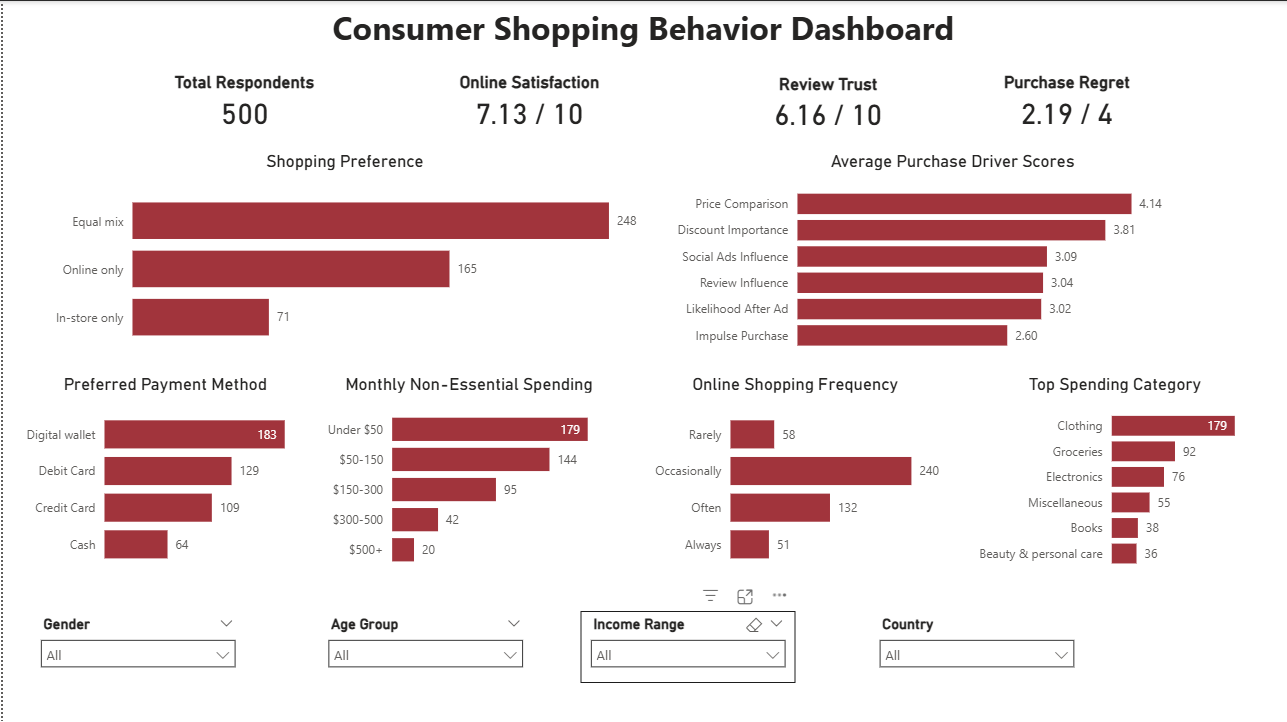

This screenshot's page, from the dashboard's own definition file:
{"tool":"powerbi","page":{"name":"Consumer Shopping Dashboard","canvas":[1280,720],"ordinal":0},"visuals":[{"type":"textbox","box":[41.2,0,1192.5,57.6],"z":0},{"type":"card","title":"Total Respondents","fields":{"Values":["_Measures.Total Respondents"]},"box":[150.9,71.4,179.8,60],"z":1000},{"type":"card","title":"Online Satisfaction","fields":{"Values":["_Measures.Online Satisfaction Display"]},"box":[433.6,71.4,179.8,60],"z":2000},{"type":"card","title":"Review Trust","fields":{"Values":["_Measures.Review Trust Display"]},"box":[731.4,72.7,179.8,60],"z":3000},{"type":"card","title":"Purchase Regret","fields":{"Values":["_Measures.Purchase Regret Display"]},"box":[968.8,71.4,179.8,60],"z":4000},{"type":"clusteredBarChart","title":"Shopping Preference","fields":{"Category":["Consumer_Survey_Cleaned.Shop_Most_Where"],"Y":["_Measures.Total Respondents"]},"box":[41.2,149.6,598.3,209.9],"z":5000},{"type":"clusteredBarChart","title":"Average Purchase Driver Scores","fields":{"Category":["Purchase_Drivers.Purchase_Driver"],"Y":["_Measures.Purchase Driver Average"]},"box":[657.3,149.6,576.3,209.9],"z":6000},{"type":"clusteredBarChart","title":"Preferred Payment Method","fields":{"Category":["Consumer_Survey_Cleaned.Preferred_Payment_Method"],"Y":["_Measures.Total Respondents"]},"box":[11,370.5,300.5,205],"z":7000},{"type":"clusteredBarChart","title":"Monthly Non-Essential Spending","fields":{"Y":["_Measures.Total Respondents"],"Category":["Consumer_Survey_Cleaned.Avg_Monthly_Spend_NonEssentials"]},"box":[312.9,370.5,300.5,205],"z":8000},{"type":"clusteredBarChart","title":"Online Shopping Frequency","fields":{"Y":["_Measures.Total Respondents"],"Category":["Consumer_Survey_Cleaned.Online_Shopping_Frequency"]},"box":[638.1,370.5,300.5,205],"z":9000},{"type":"clusteredBarChart","title":"Top Spending Category","fields":{"Y":["_Measures.Total Respondents"],"Category":["Consumer_Survey_Cleaned.Top_Spending_Category"]},"box":[956.6,370.7,299.8,205],"z":10000},{"type":"slicer","fields":{"Values":["Consumer_Survey_Cleaned.Gender"]},"box":[27.4,606.5,214.1,72.7],"z":10001},{"type":"slicer","fields":{"Values":["Consumer_Survey_Cleaned.Age_Group"]},"box":[312.9,606.5,214.1,72.7],"z":10002},{"type":"slicer","fields":{"Values":["Consumer_Survey_Cleaned.Monthly_Income_Range"]},"box":[575,606.5,214.1,72.7],"z":10003},{"type":"slicer","fields":{"Values":["Consumer_Survey_Cleaned.Country_Region"]},"box":[861.8,606.5,214.1,72.7],"z":10004}]}

Visuals, with their boxes in screenshot pixels (x1, y1, x2, y2), scaled from the page's 1280x720 canvas onto the 1287x722 screenshot:
textbox: pyautogui.locateOnScreen(41, 0, 1240, 58)
"Total Respondents" card: pyautogui.locateOnScreen(152, 72, 333, 132)
"Online Satisfaction" card: pyautogui.locateOnScreen(436, 72, 617, 132)
"Review Trust" card: pyautogui.locateOnScreen(735, 73, 916, 133)
"Purchase Regret" card: pyautogui.locateOnScreen(974, 72, 1155, 132)
"Shopping Preference" clusteredBarChart: pyautogui.locateOnScreen(41, 150, 643, 360)
"Average Purchase Driver Scores" clusteredBarChart: pyautogui.locateOnScreen(661, 150, 1240, 360)
"Preferred Payment Method" clusteredBarChart: pyautogui.locateOnScreen(11, 372, 313, 577)
"Monthly Non-Essential Spending" clusteredBarChart: pyautogui.locateOnScreen(315, 372, 617, 577)
"Online Shopping Frequency" clusteredBarChart: pyautogui.locateOnScreen(642, 372, 944, 577)
"Top Spending Category" clusteredBarChart: pyautogui.locateOnScreen(962, 372, 1263, 577)
slicer - Consumer_Survey_Cleaned.Gender: pyautogui.locateOnScreen(28, 608, 243, 681)
slicer - Consumer_Survey_Cleaned.Age_Group: pyautogui.locateOnScreen(315, 608, 530, 681)
slicer - Consumer_Survey_Cleaned.Monthly_Income_Range: pyautogui.locateOnScreen(578, 608, 793, 681)
slicer - Consumer_Survey_Cleaned.Country_Region: pyautogui.locateOnScreen(867, 608, 1082, 681)
